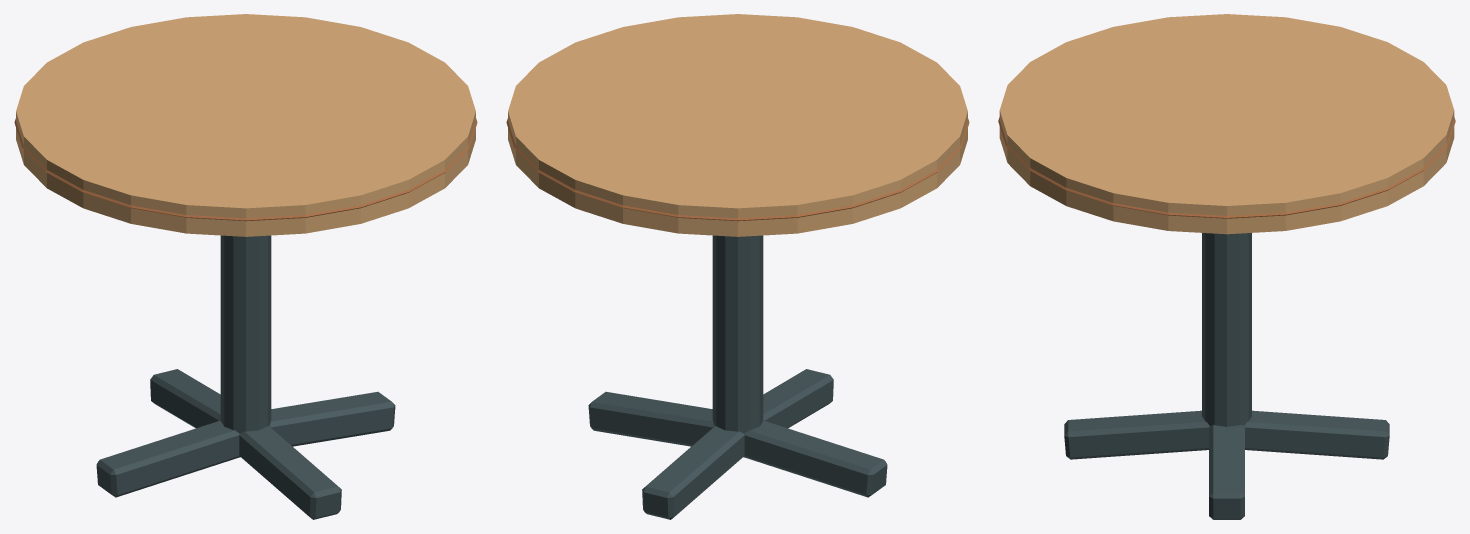
Rendered from 04_Round_Cafe_Table.glb.
The picture shows the model from 3 angles, left to right: view 1: azimuth 30°, elevation 25°; view 2: azimuth 150°, elevation 25°; view 3: azimuth 270°, elevation 25°; orthographic projection.
Visible parts, largest first — view 1: 04_Round_Cafe_Table__Body; view 2: 04_Round_Cafe_Table__Body; view 3: 04_Round_Cafe_Table__Body.
Boxes of the visible parts, box(x1,y1,x2,y2) form: 04_Round_Cafe_Table__Body: box(14, 14, 477, 519); 04_Round_Cafe_Table__Body: box(506, 14, 969, 519); 04_Round_Cafe_Table__Body: box(998, 14, 1455, 519).
Size of the model in its own units: 2.94 by 2.44 by 2.94.
1 material, 1 textured.
